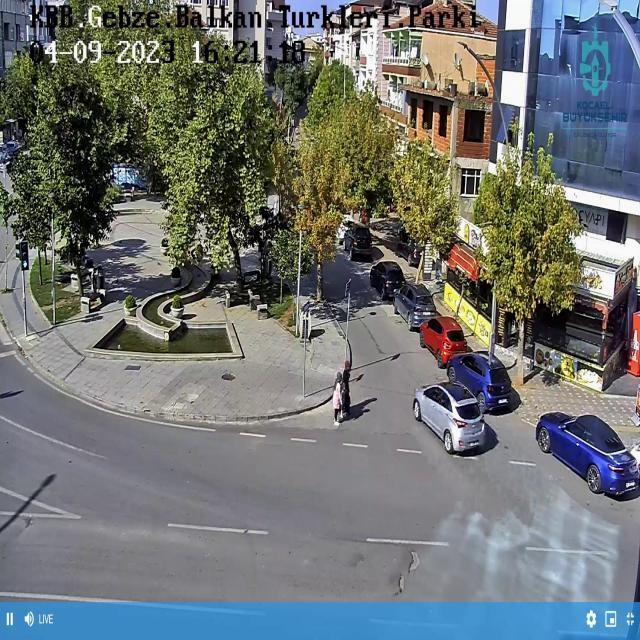Car: (534, 408, 640, 503), (406, 381, 489, 461), (445, 352, 520, 412), (416, 311, 470, 365), (394, 284, 437, 331), (368, 259, 406, 302), (342, 226, 376, 266)
